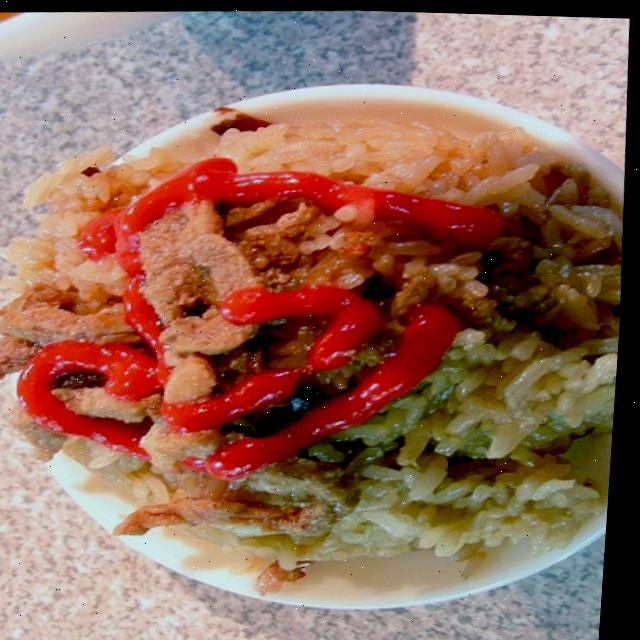米饭主食: (0, 38, 638, 640)
